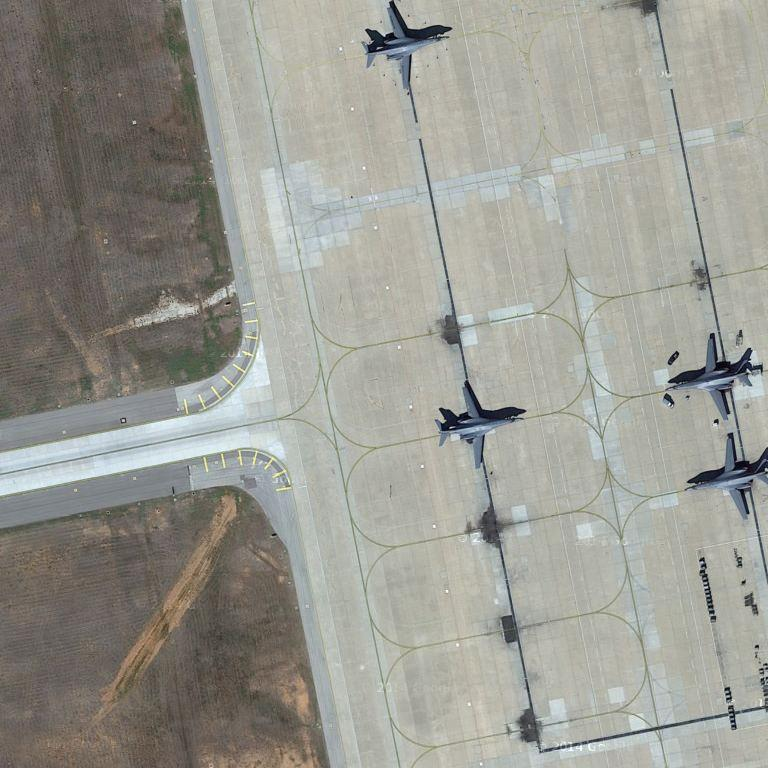B-1B: (354, 2, 452, 91), (426, 384, 521, 472), (665, 331, 754, 420), (685, 433, 768, 521)
